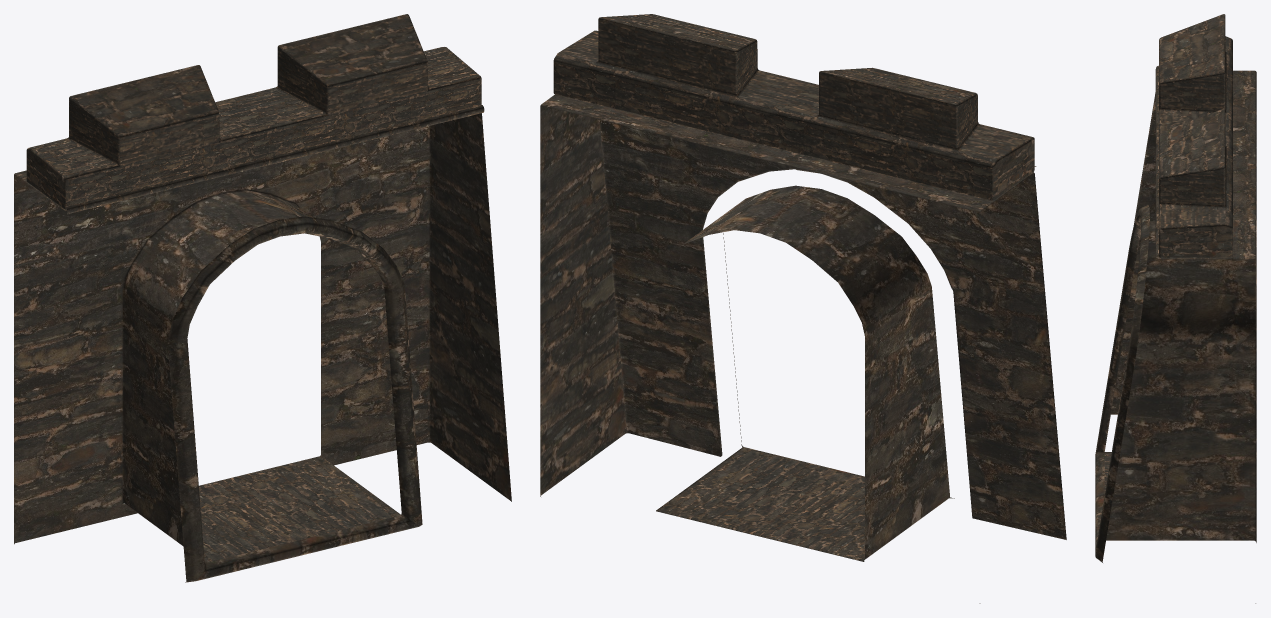
Rendered from block_19.glb.
3 renders of one model, left to right at view 1: azimuth 30°, elevation 25°; view 2: azimuth 150°, elevation 25°; view 3: azimuth 270°, elevation 25°, orthographic. The views are drawn at different scales.
Parts seen in each view (by area): view 1: block_19; view 2: block_19; view 3: block_19.
Part boxes in pixels (x1,y1,x2,y2): block_19: (14,14,511,582); block_19: (540,14,1066,603); block_19: (1095,14,1256,603).
Bounding box in the file's own units: 6.67 × 6.89 × 2.4.
Materials: 2 (2 with a texture image).
